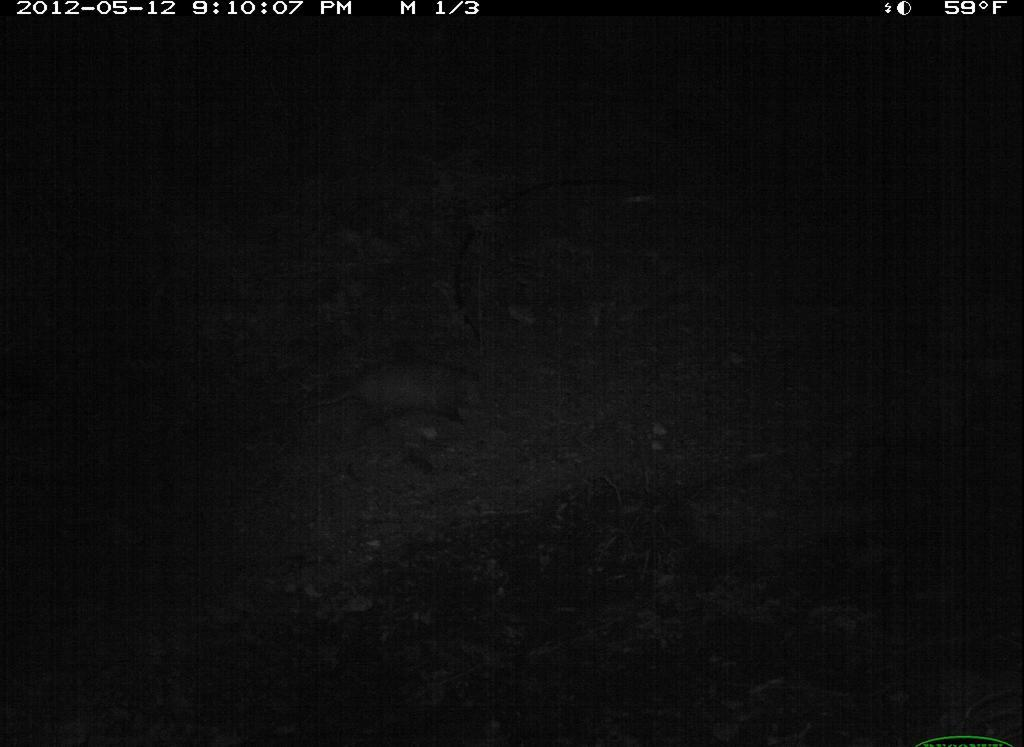opossum: (289, 354, 514, 457)
